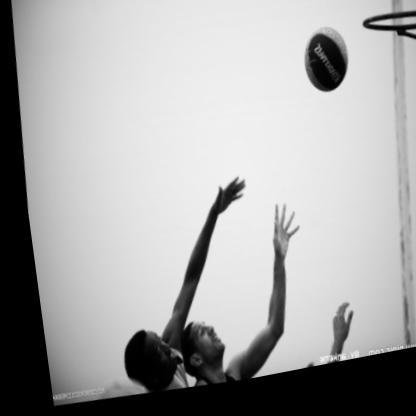basketball: (296, 33, 349, 109)
